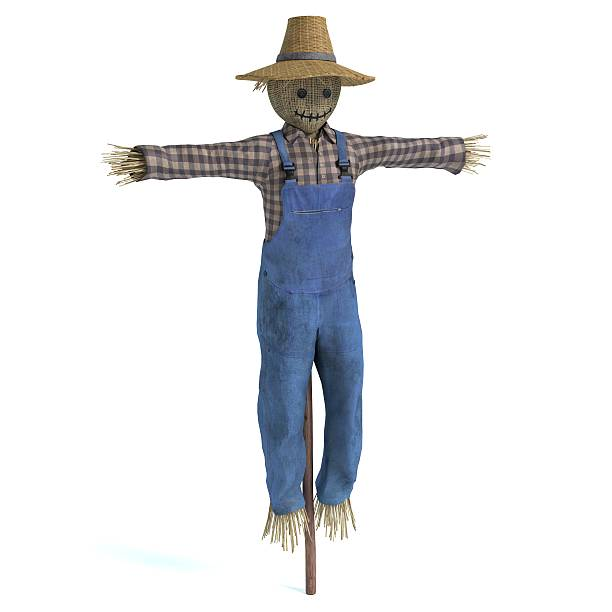person-like: (100, 5, 496, 555)
